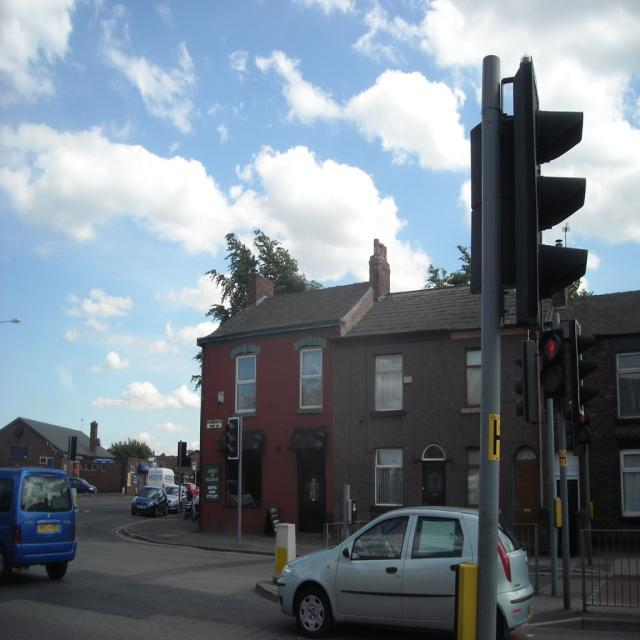off traffic light: (513, 56, 590, 329), (574, 317, 602, 416), (512, 339, 539, 426)
traffic light: (539, 330, 564, 392)
